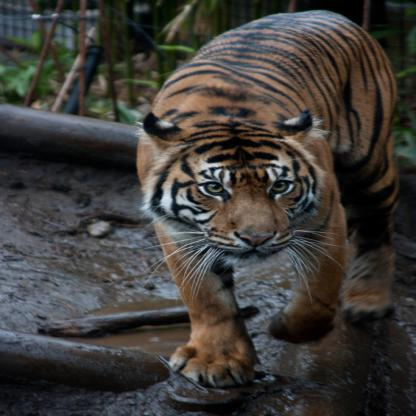Tiger: (136, 7, 397, 388)
